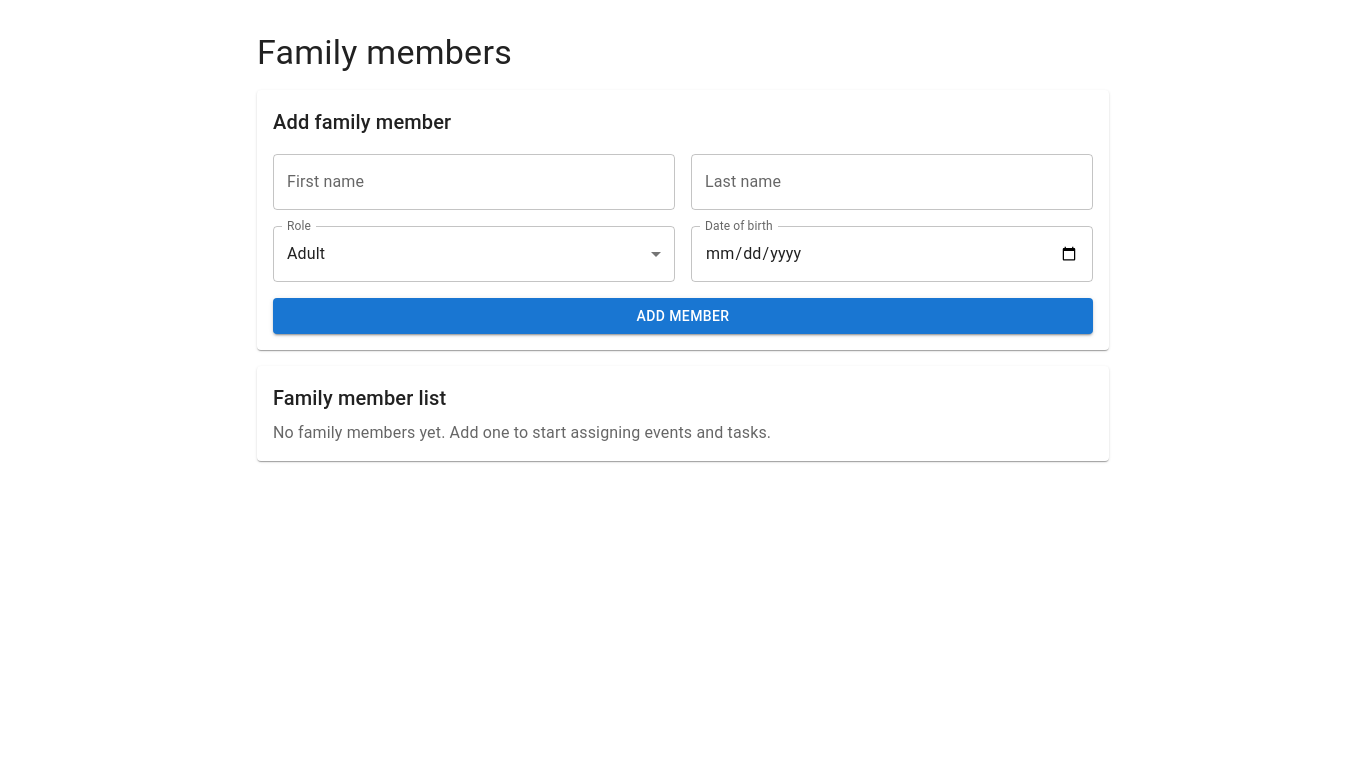
Test: FamilyMembersPage › adds a member and appends it to the list
The width and height of the screenshot is (1366, 768).
Expected: the heading "Family members" is shown, x1=257 y1=32 x2=512 y2=72
In the field labelled "First name": point(474, 182) x1=273 y1=154 x2=675 y2=210, type " Jamie "
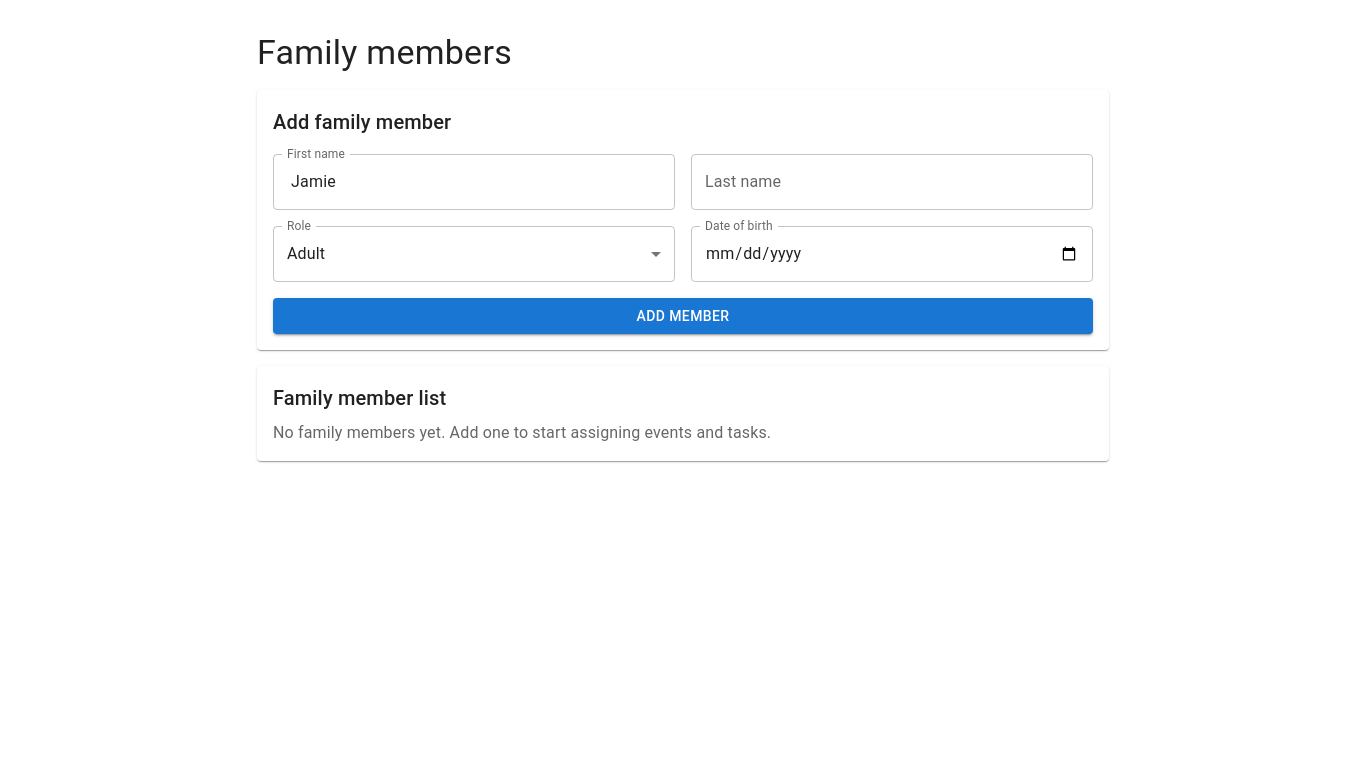
In the field labelled "Last name": point(892, 182) x1=691 y1=154 x2=1093 y2=210, type " Stone "
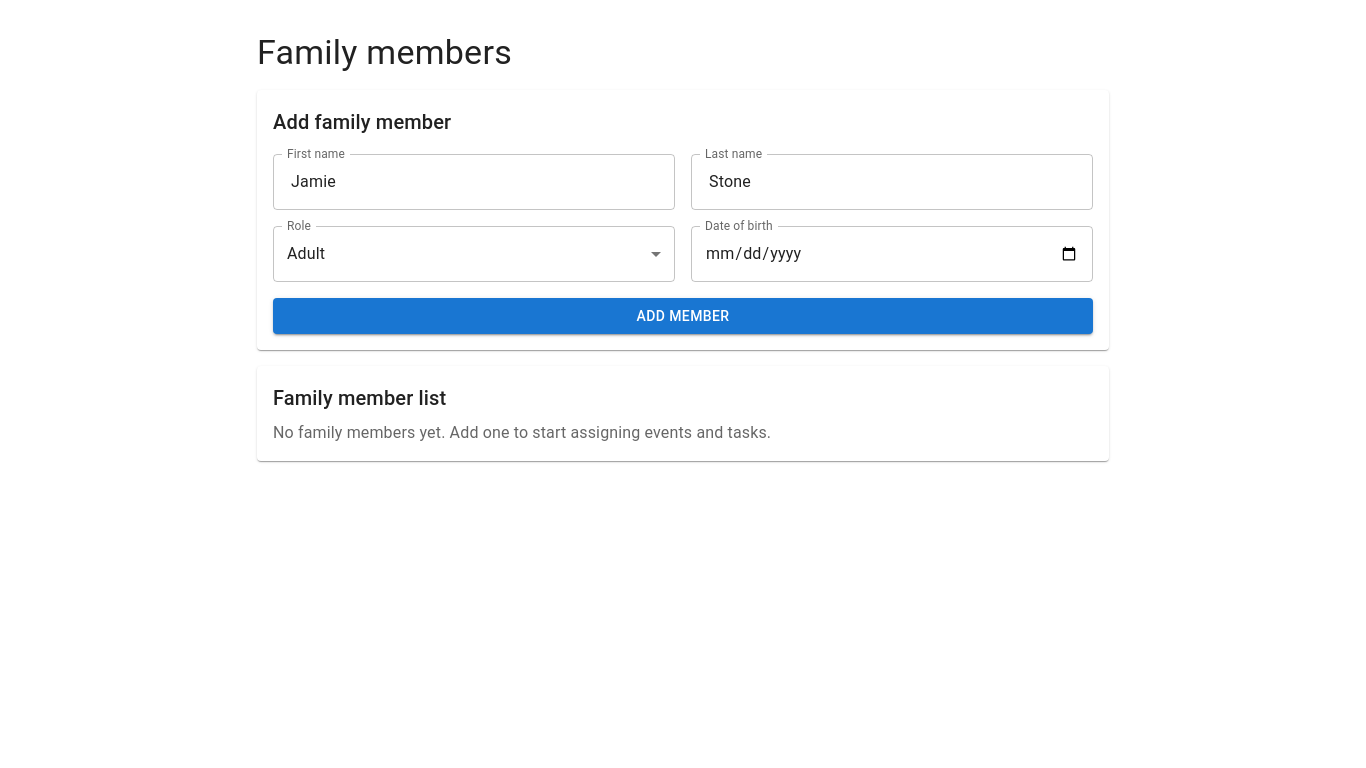
In the date field labelled "Date of birth": point(892, 254) x1=691 y1=226 x2=1093 y2=282, type "2016-05-01"
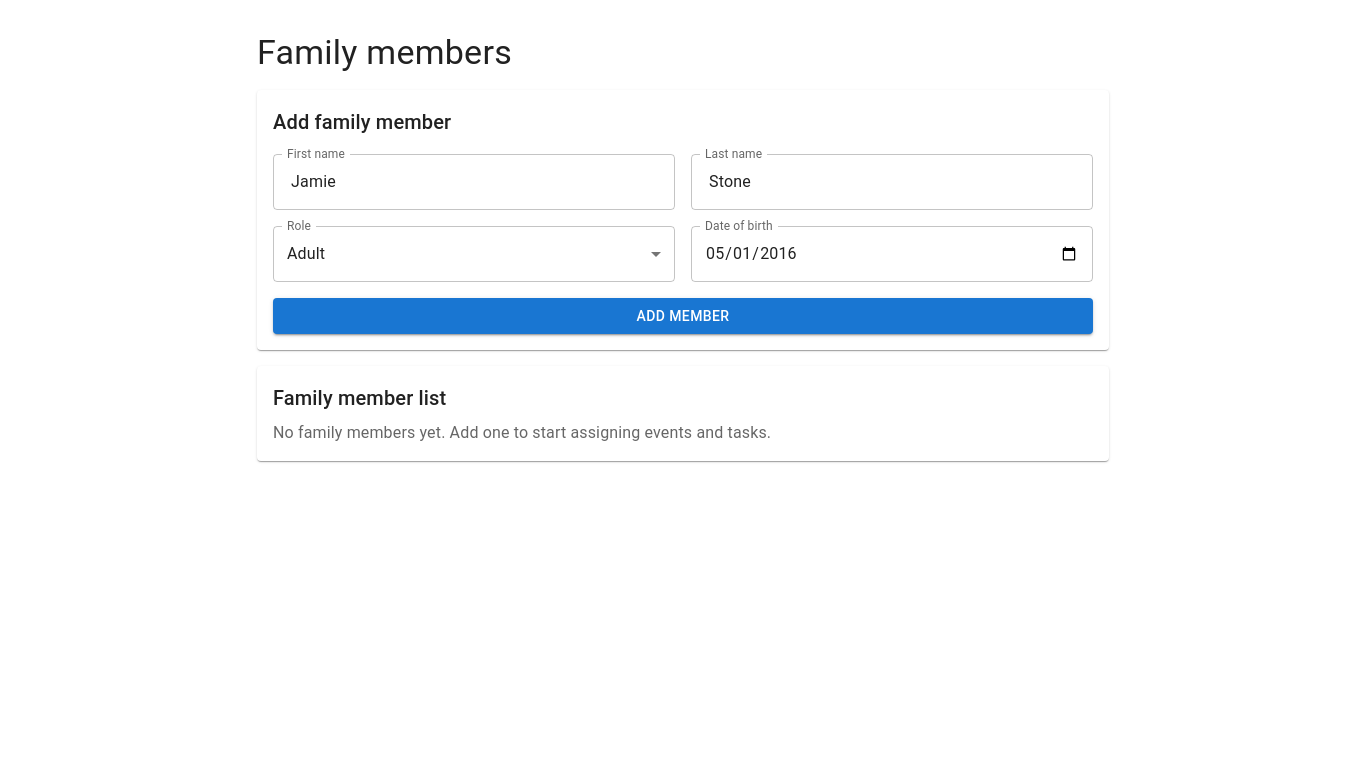
Click the button "Add member": point(683, 316) x1=273 y1=298 x2=1093 y2=334
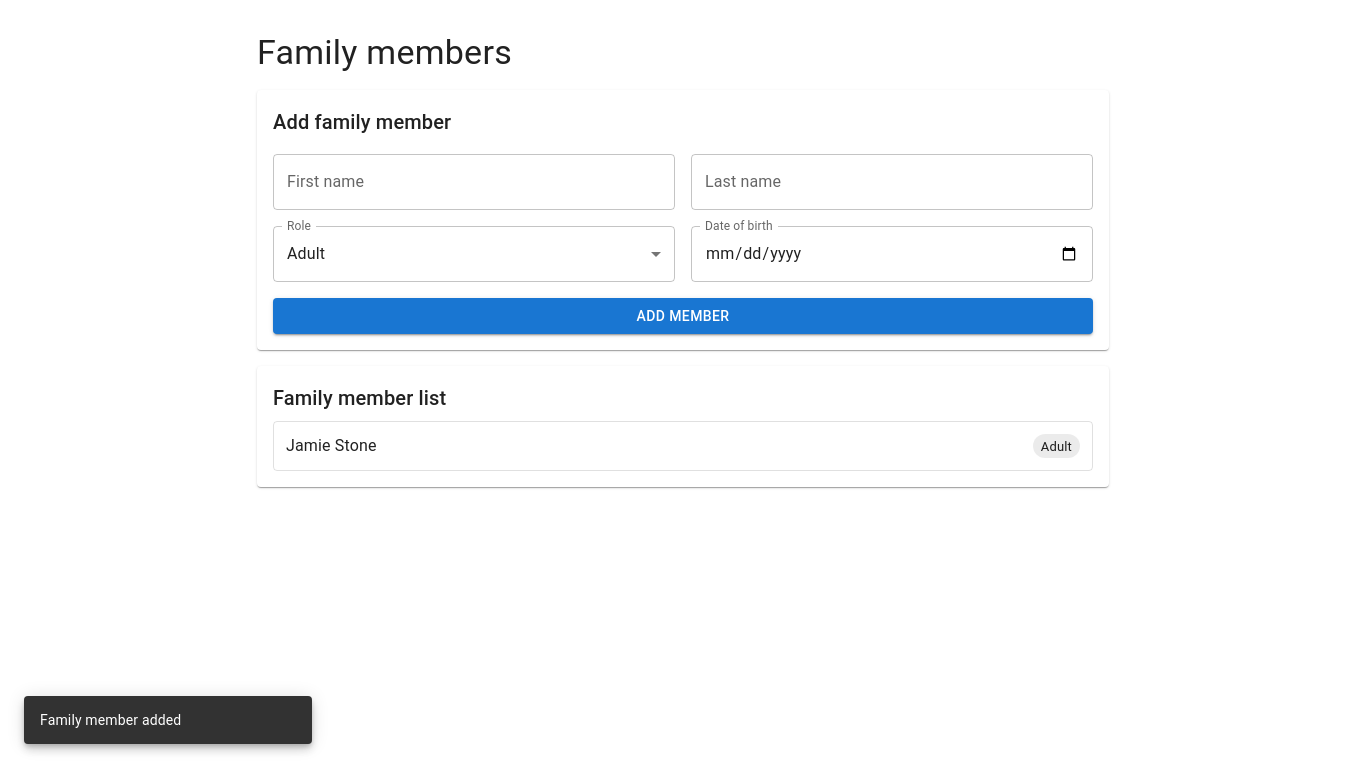
Expected: the text "Jamie Stone" is shown, x1=286 y1=434 x2=377 y2=458
Expected: the text "Family member added" is shown, x1=40 y1=712 x2=181 y2=728
